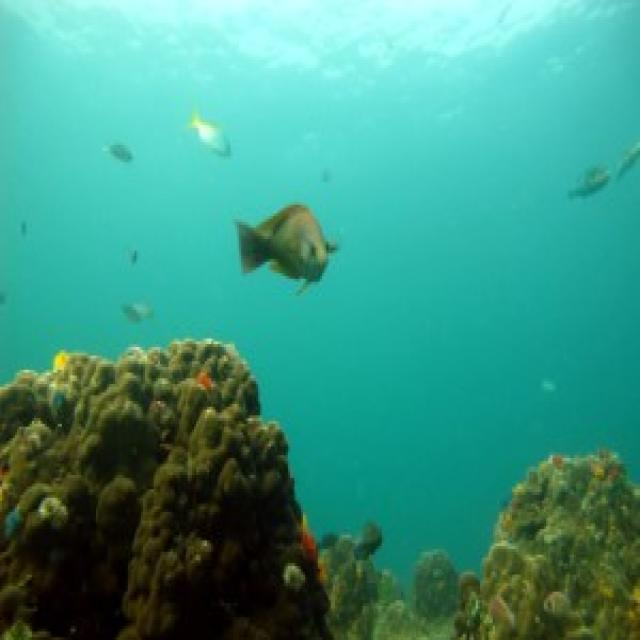Healthy: (1, 339, 330, 638), (483, 453, 639, 638)
